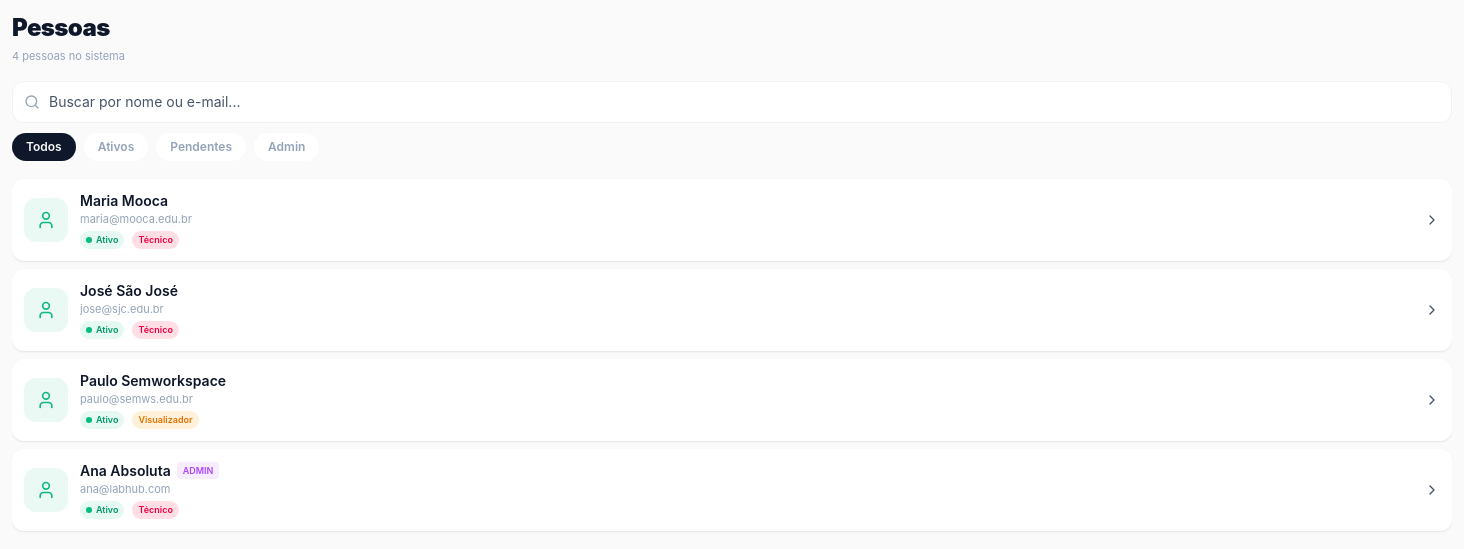
Test: UsersPage listagem (Pessoas) › filtra por busca
This screenshot has width=1464, height=549.
Expected: the text "Maria Mooca" is shown, [80, 190, 168, 210]
In the field with placeholder "Buscar por nome ou e-mail...": [732, 102] box [12, 80, 1452, 122], type "José"
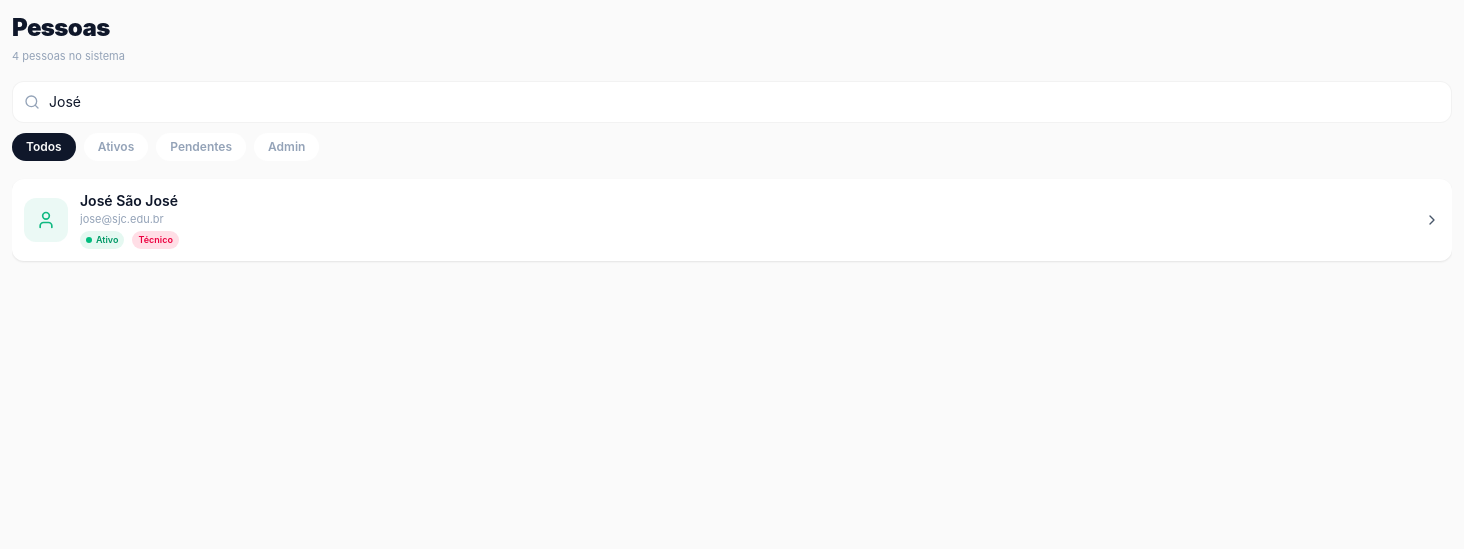
Expected: the text "José São José" is shown, [80, 190, 178, 210]
Expected: the button "Maria Mooca" is gone
